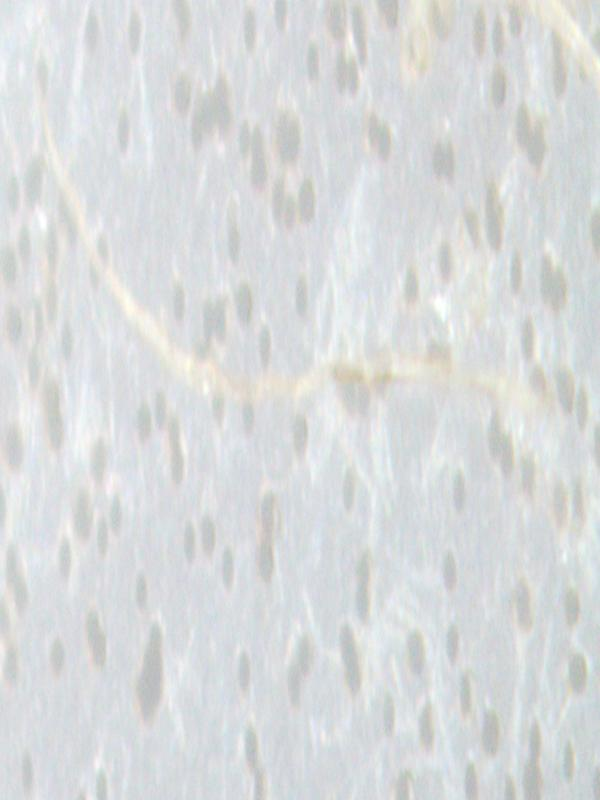microplastic: (2, 2, 598, 795)
